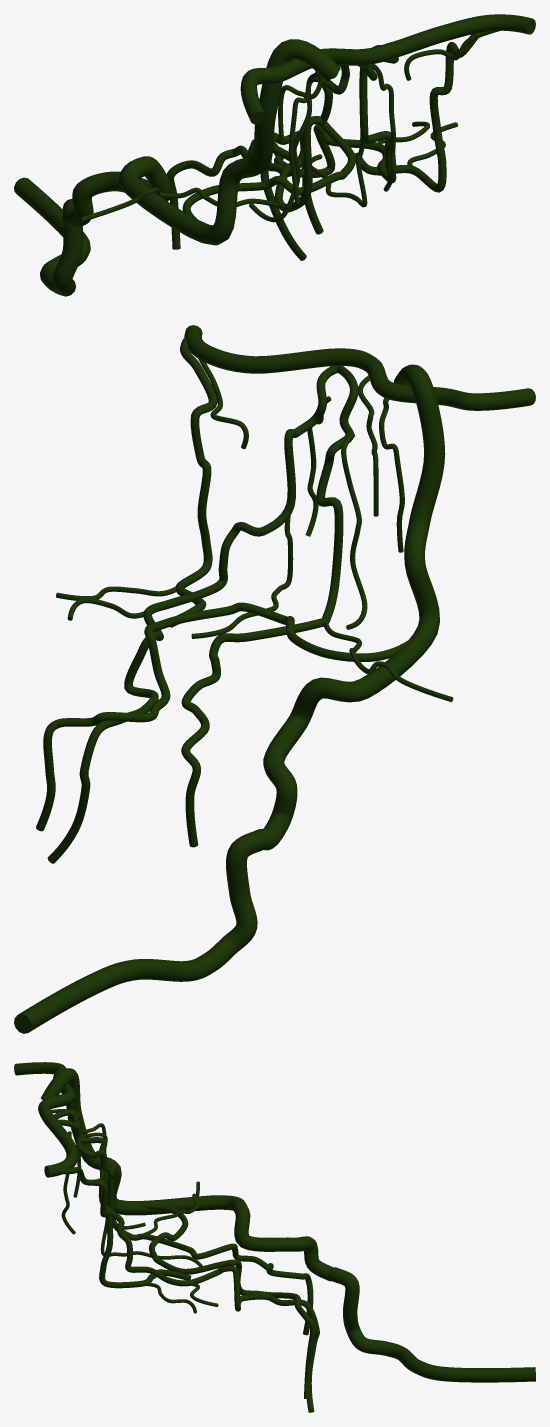
Rendered from Temple_VineClump_LeftSidePit.FBX.
3 renders of one model, top to bottom at view 1: azimuth 30°, elevation 25°; view 2: azimuth 150°, elevation 25°; view 3: azimuth 270°, elevation 25°, orthographic. The views are drawn at different scales.
Visible parts, largest first — view 1: Line027; view 2: Line027; view 3: Line027.
Part boxes in pixels (x1,y1,x2,y2): Line027: [14, 14, 535, 296]; Line027: [14, 325, 535, 1033]; Line027: [14, 1062, 535, 1412].
Bounding box in the file's own units: 26.15 × 27.18 × 43.32.
